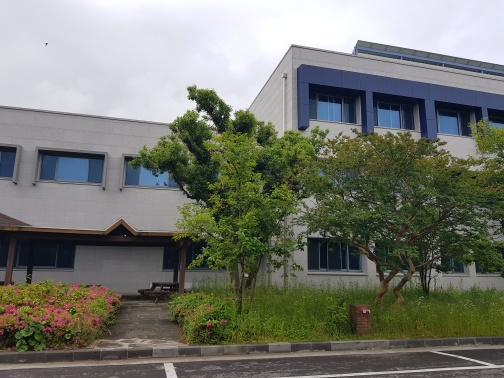College of Social Sciences: (18, 31, 498, 295), (32, 115, 203, 295), (284, 56, 477, 146)
